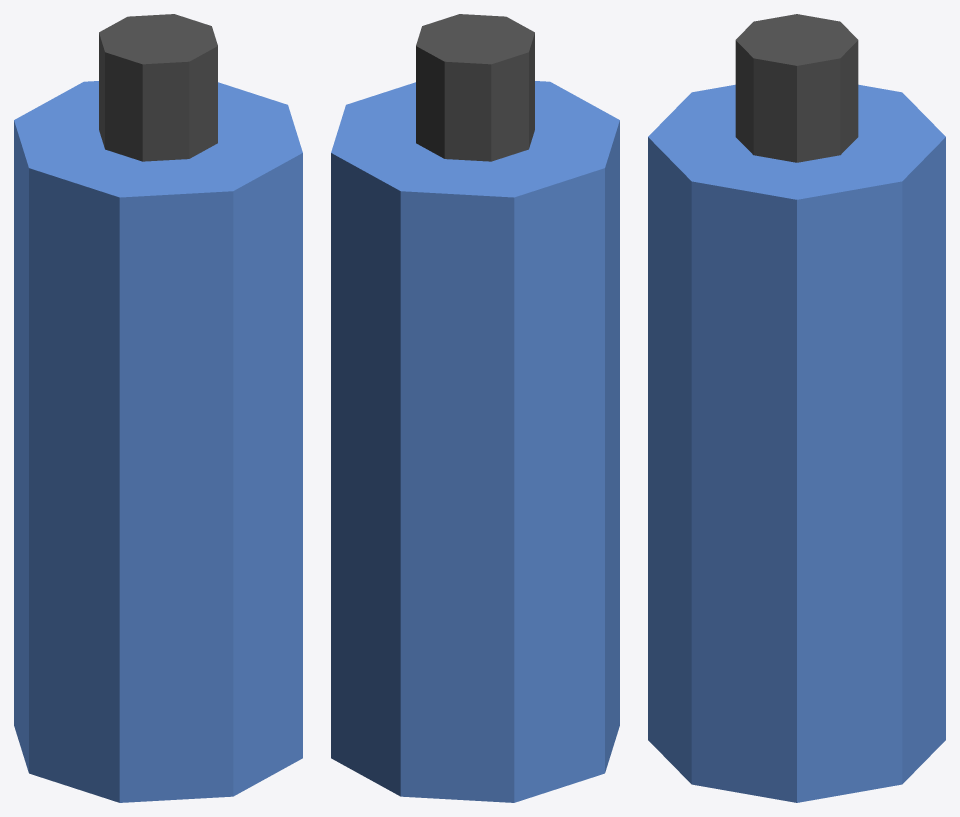
The model's file is Bathroom2_Bottle_1.fbx.
The picture shows the model from 3 angles, left to right: view 1: azimuth 30°, elevation 25°; view 2: azimuth 150°, elevation 25°; view 3: azimuth 270°, elevation 25°; orthographic projection.
Visible parts, largest first — view 1: Bathroom2_Bottle; view 2: Bathroom2_Bottle; view 3: Bathroom2_Bottle.
Boxes of the visible parts, x1,y1,x2,y2 form: Bathroom2_Bottle: (14,14,302,802); Bathroom2_Bottle: (331,14,619,802); Bathroom2_Bottle: (648,14,945,802).
Bounding box in the file's own units: 9.16 × 23.74 × 9.16.
